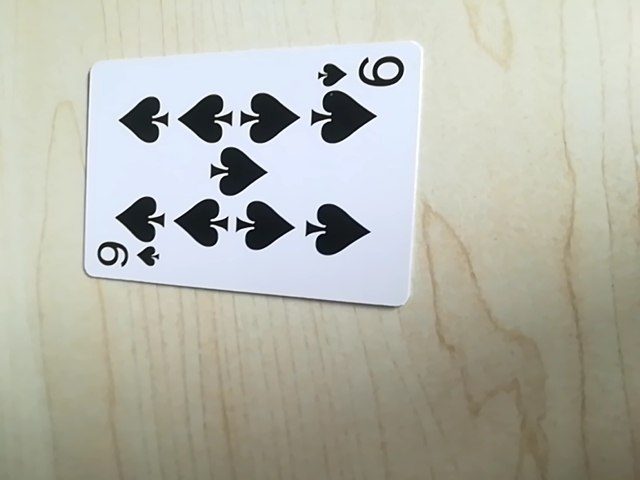ht 9: (314, 50, 412, 92), (89, 240, 165, 277)
